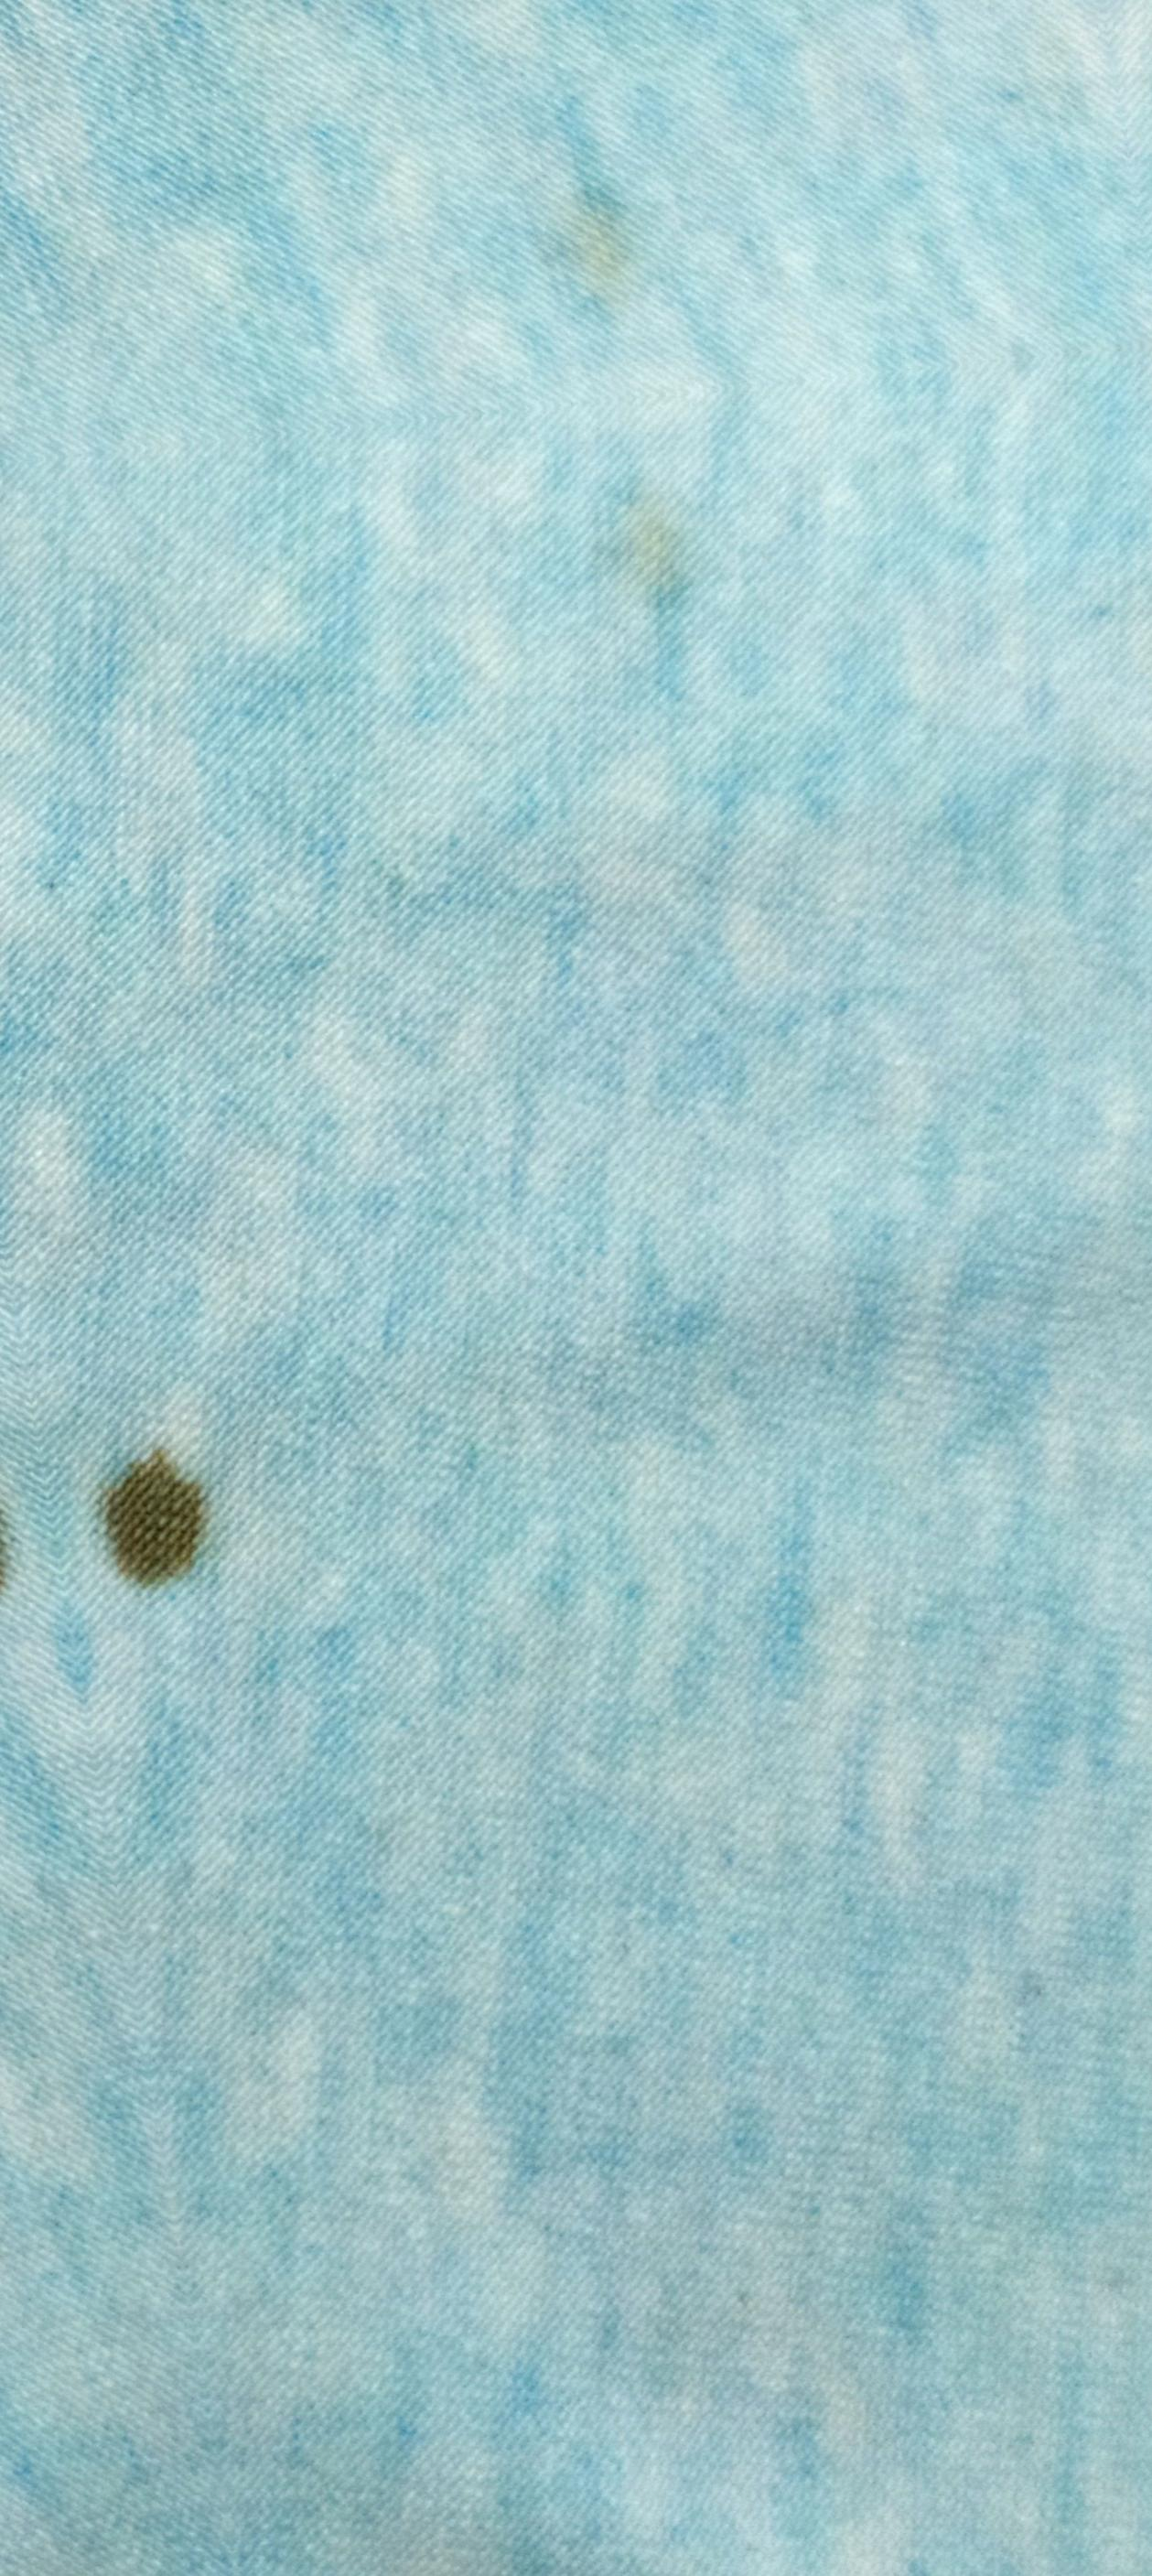stain: (79, 1429, 235, 1626)
